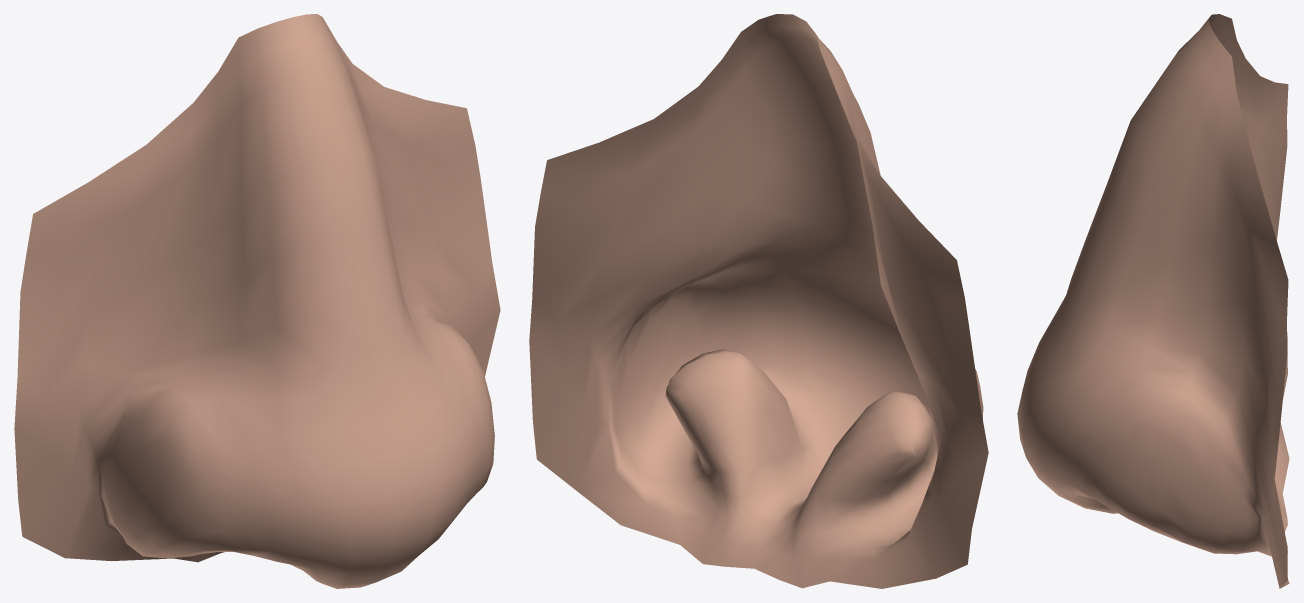
Rendered from nose_5.fbx.
3 renders of one model, left to right at view 1: azimuth 30°, elevation 25°; view 2: azimuth 150°, elevation 25°; view 3: azimuth 270°, elevation 25°, orthographic. The views are drawn at different scales.
Visible parts, largest first — view 1: pasted__polySurface2; view 2: pasted__polySurface2; view 3: pasted__polySurface2.
Part boxes in pixels (left/top/right/bottom): pasted__polySurface2: left=14, top=14, right=500, bottom=588; pasted__polySurface2: left=529, top=14, right=988, bottom=588; pasted__polySurface2: left=1017, top=14, right=1289, bottom=588.
Size of the model in its own units: 0.0982 by 0.1088 by 0.0515.
